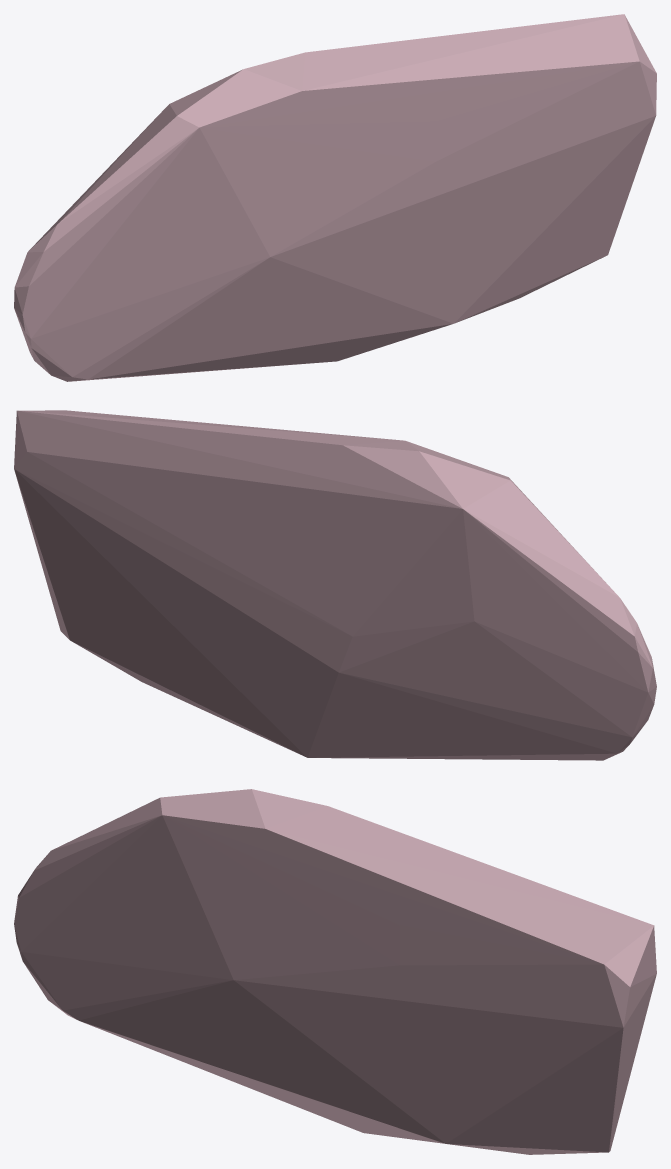
Rendered from serviceTool_refrigerant_leak_detector_a01.glb.
3 views of the same model, one above another, from view 1: azimuth 30°, elevation 25°; view 2: azimuth 150°, elevation 25°; view 3: azimuth 330°, elevation 25° (orthographic).
Parts seen in each view (by area): view 1: geometry_0; view 2: geometry_0; view 3: geometry_0.
Part boxes in pixels (x1,y1,x2,y2): geometry_0: (14,14,656,381); geometry_0: (14,410,656,760); geometry_0: (14,789,656,1154).
Size of the model in its own units: 0.4781 by 0.2364 by 0.0555.
